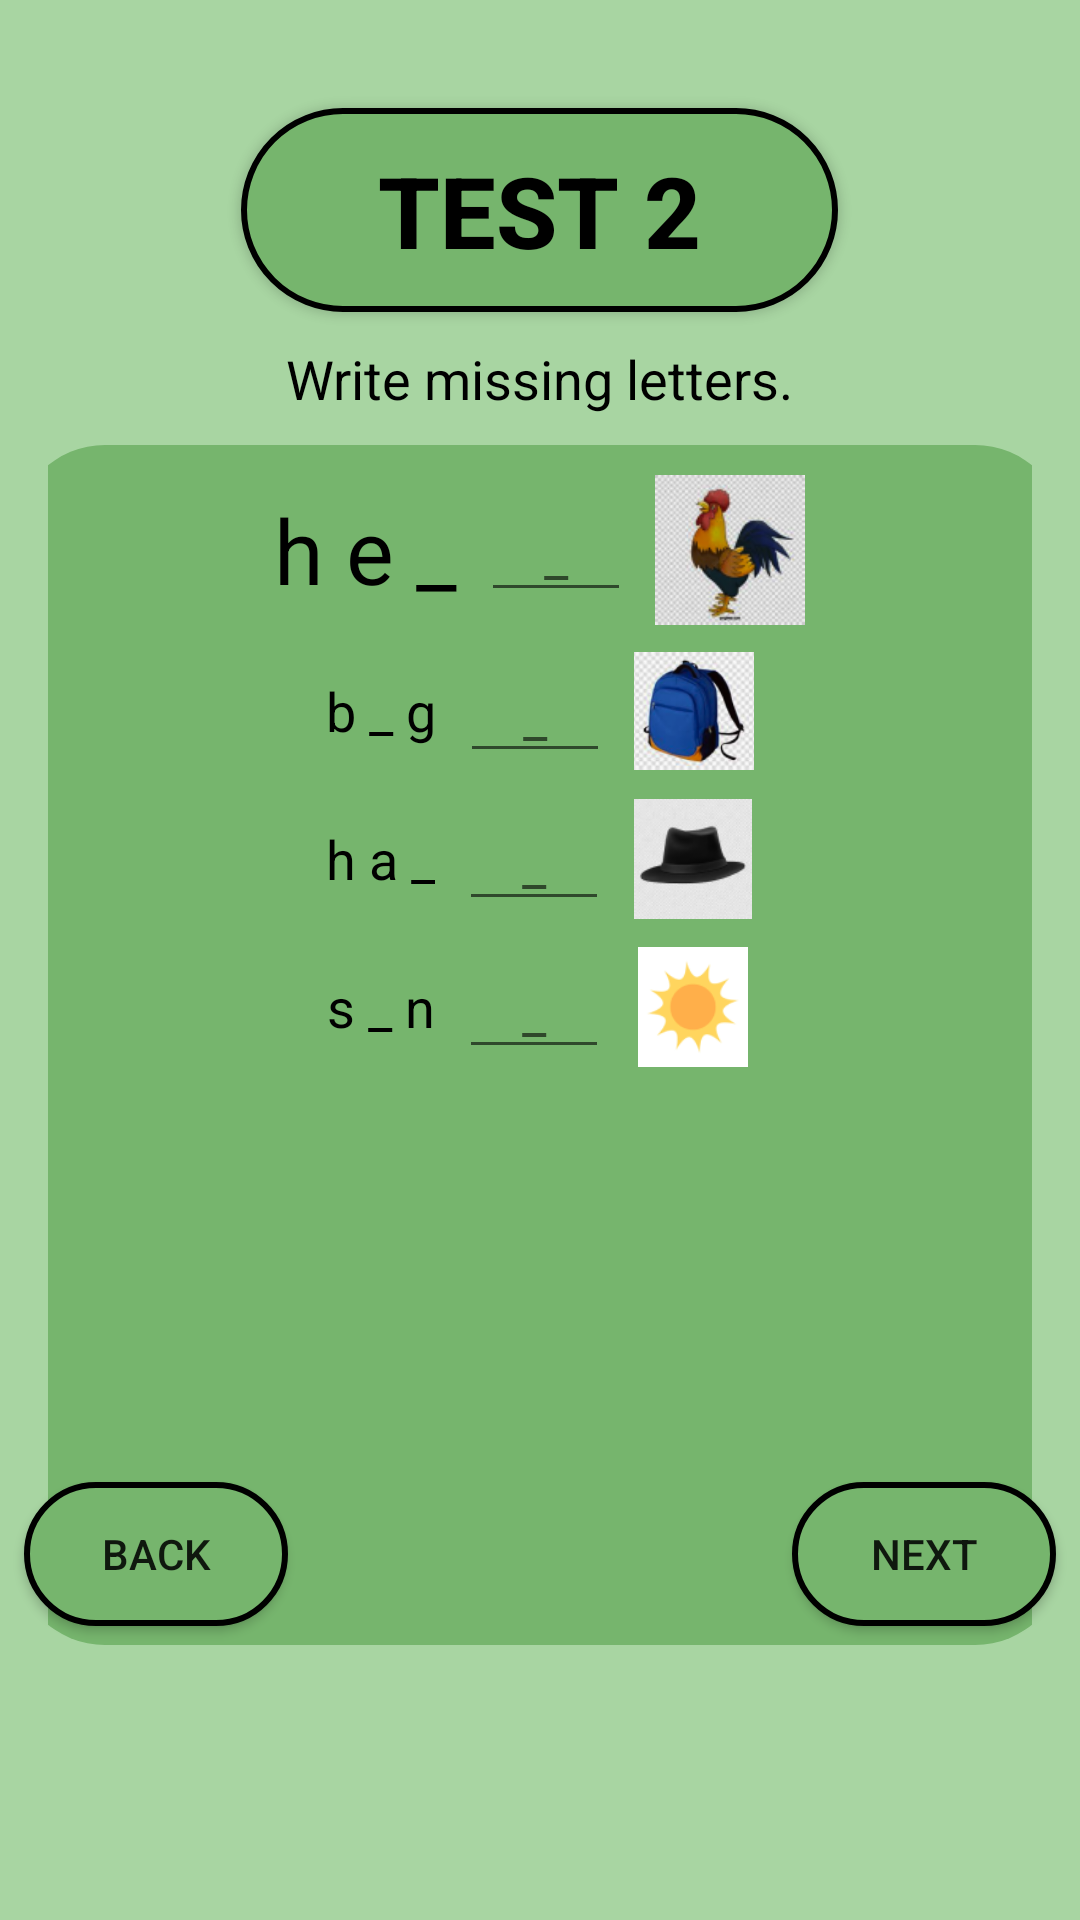

Screen size 1080 x 1920. Icon name, then its center in pixels as point (x, y):
graphia bag: point (694, 711)
graphia hat: point (693, 859)
graphia hen: point (730, 550)
graphia sun: point (693, 1007)
